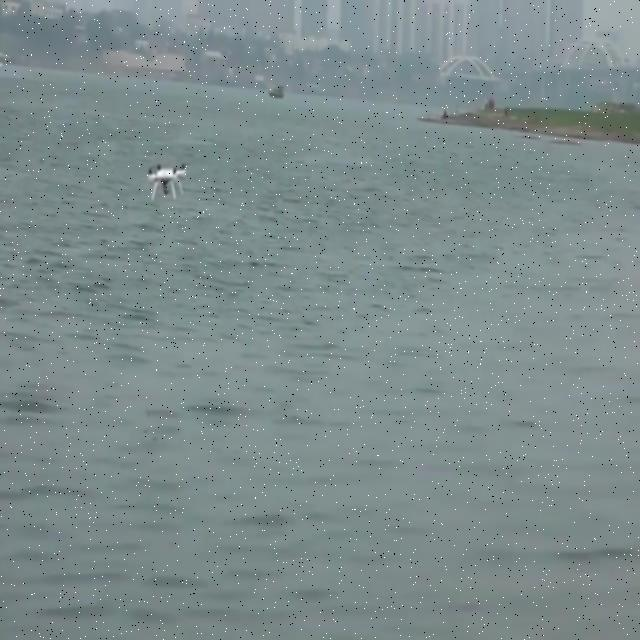UAV: (148, 163, 186, 201)
